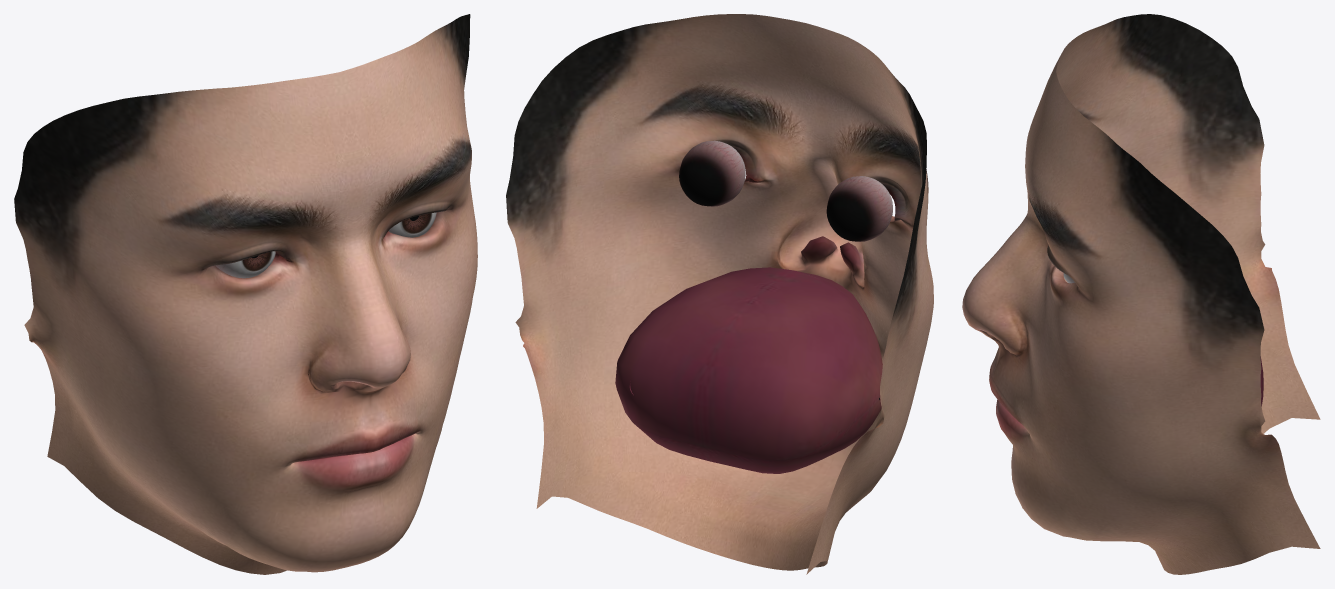
3 renders of one model, left to right at view 1: azimuth 30°, elevation 25°; view 2: azimuth 150°, elevation 25°; view 3: azimuth 270°, elevation 25°, orthographic. The views are drawn at different scales.
Parts seen in each view (by area): view 1: face; view 2: face; view 3: face.
Part boxes in pixels (x1,y1,x2,y2): face: (14, 14, 477, 574); face: (506, 14, 933, 574); face: (962, 14, 1320, 574).
Bounding box in the file's own units: 168 × 202 × 133.
Materials: 3 (3 with a texture image).
